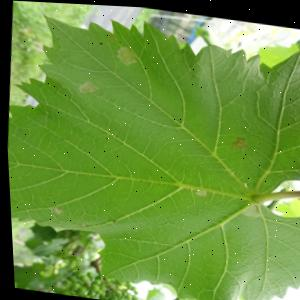Folha: (0, 0, 300, 300)
Fungo: (115, 42, 139, 65), (76, 77, 100, 94), (230, 132, 248, 146), (48, 205, 66, 215), (190, 185, 207, 194)
